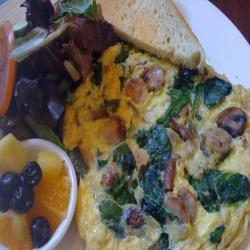fries: (85, 1, 210, 76)
omelette: (78, 67, 249, 250)
